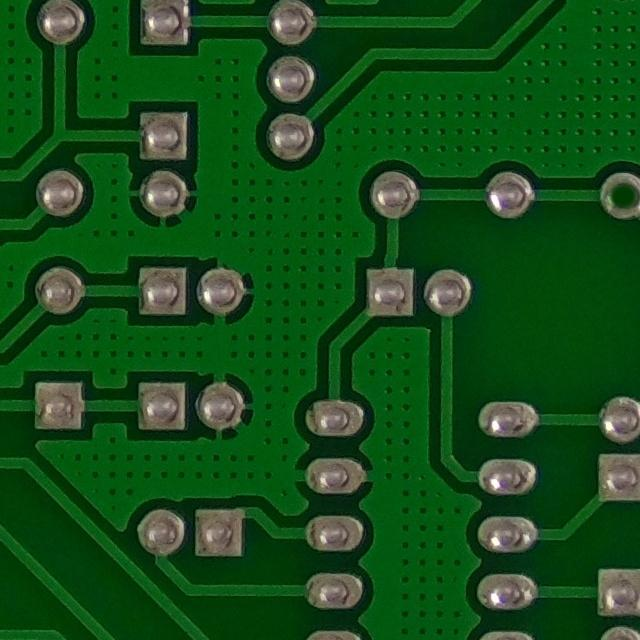missing_hole: (597, 160, 640, 227)
